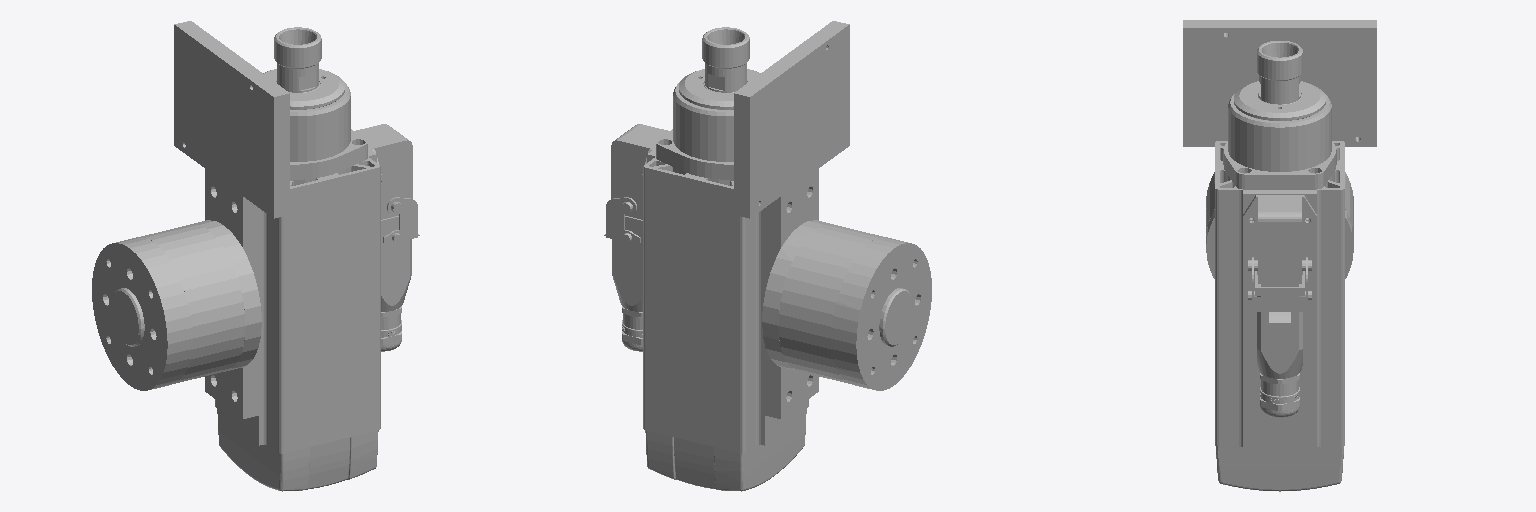
The robot description file, URDF, robot "gripper_2":
<?xml version="1.0" encoding="utf-8"?>
<!-- This URDF was automatically created by SolidWorks to URDF Exporter! Originally created by [author] ([email redacted]) 
     Commit Version: 1.5.1-0-g916b5db  Build Version: 1.5.7152.31018
     For more information, please see http://wiki.ros.org/sw_urdf_exporter -->
<robot
  name="gripper_2">
  <link
    name="base_link">
    <inertial>
      <origin
        xyz="0.071574 -1.664E-06 0.013015"
        rpy="0 0 0" />
      <mass
        value="0.75136" />
      <inertia
        ixx="0.0015032"
        ixy="1.2404E-08"
        ixz="-1.9576E-05"
        iyy="0.0013662"
        iyz="-4.4435E-08"
        izz="0.00054605" />
    </inertial>
    <visual>
      <origin xyz="0 0 0" rpy="0 0 0" />
      <geometry>
        <mesh filename="package://gripper_2/meshes/base_link.STL" />
      </geometry>
      <material
        name="">
        <color
          rgba="0.75294 0.75294 0.75294 1" />
      </material>
    </visual>
    <collision>
      <origin
        xyz="0 0 0"
        rpy="0 0 0" />
      <geometry>
        <mesh
          filename="package://gripper_2/meshes/base_link.STL" />
      </geometry>
    </collision>
  </link>
</robot>

--- Facts derived from the render (not from the file) ---
The picture shows the robot from 3 angles, left to right: view 1: azimuth 30°, elevation 25°; view 2: azimuth 150°, elevation 25°; view 3: azimuth 270°, elevation 25°; orthographic projection.
Model gripper_2 with 1 links and 0 joints (none), rooted at base_link, posed every joint at zero.
Links seen in each view (by area): view 1: base_link; view 2: base_link; view 3: base_link.
Link boxes in pixels (bbox=[...]): base_link: bbox=[92, 21, 419, 491]; base_link: bbox=[604, 21, 931, 491]; base_link: bbox=[1183, 20, 1376, 491].
Bounding box of the posed robot: 0.1765 × 0.105 × 0.251 m (x, y, z).
Meshes: 1 distinct files referenced, 1 mesh visuals loaded (1 binary STL).